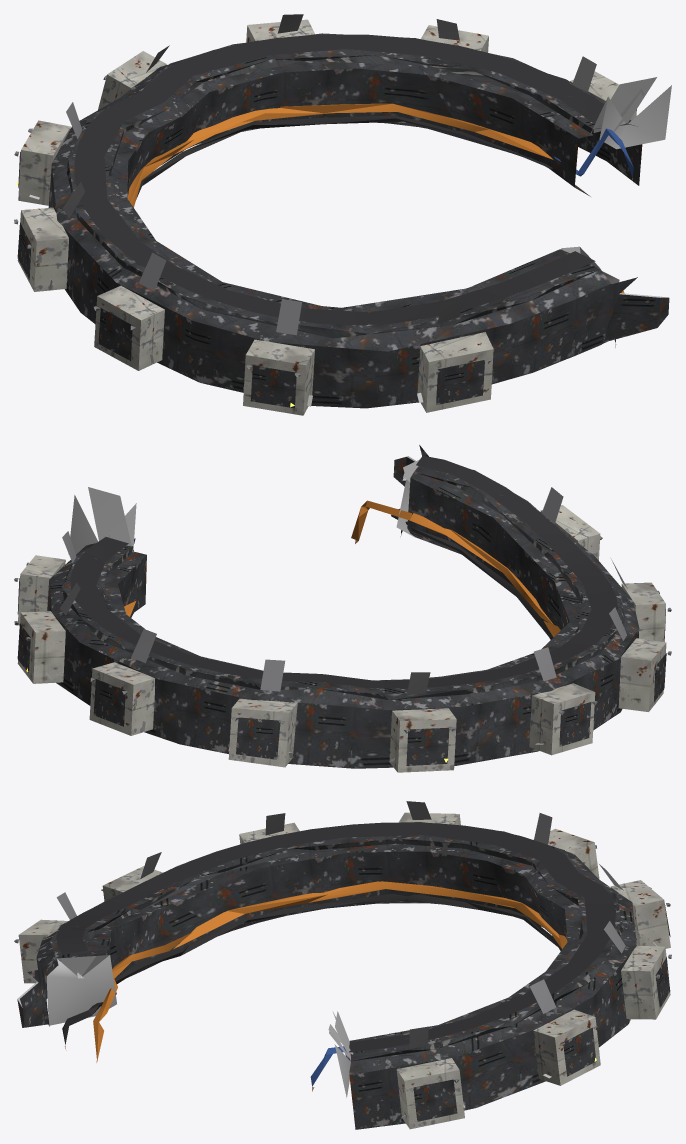
The model's file is capsule_collar_ring_lod2.glb.
The picture shows the model from 3 angles, top to bottom: view 1: azimuth 30°, elevation 25°; view 2: azimuth 150°, elevation 25°; view 3: azimuth 270°, elevation 25°; orthographic projection. The views are drawn at different scales.
Parts seen in each view (by area): view 1: capsule_collar_ring; view 2: capsule_collar_ring; view 3: capsule_collar_ring.
Boxes of the visible parts, left/top/right/bottom form: capsule_collar_ring: left=14, top=14, right=671, bottom=415; capsule_collar_ring: left=14, top=445, right=671, bottom=772; capsule_collar_ring: left=14, top=801, right=671, bottom=1129.
Size of the model in its own units: 1.69 by 0.3791 by 1.72.
Materials: 10 (2 with a texture image).
